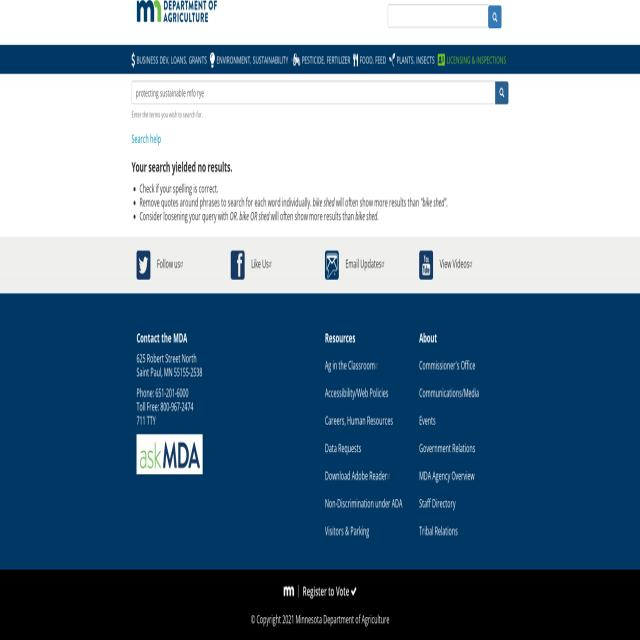button: (136, 434, 202, 474), (208, 46, 290, 73), (128, 46, 208, 72), (137, 0, 217, 23), (436, 47, 510, 70), (298, 580, 361, 605), (291, 46, 351, 72), (389, 47, 435, 72), (352, 46, 388, 72), (135, 251, 151, 279), (231, 250, 245, 280), (325, 250, 339, 280), (419, 250, 433, 280), (280, 580, 298, 603), (488, 5, 502, 28), (496, 81, 508, 104)
field: (132, 82, 495, 104), (388, 4, 488, 27)
